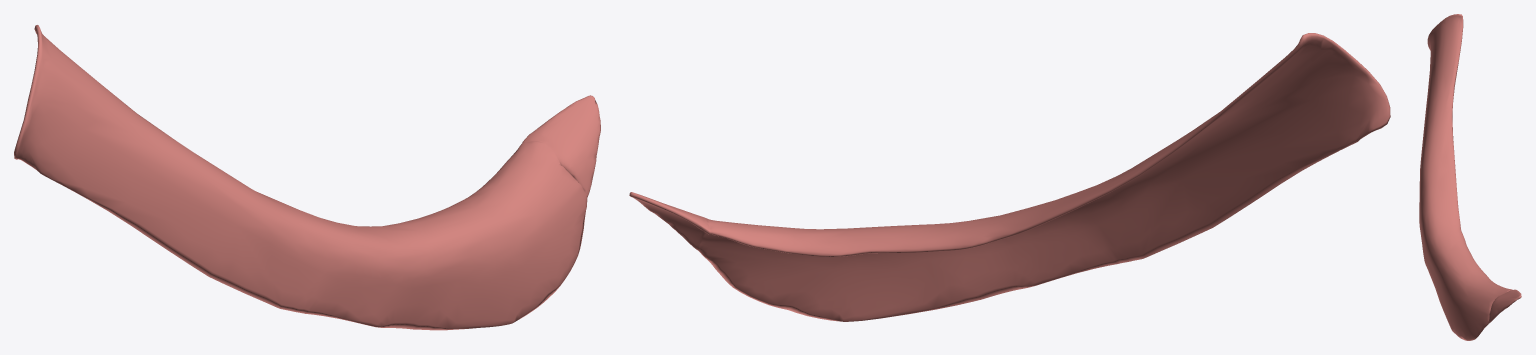
3 views of the same model, side by side, from view 1: azimuth 30°, elevation 25°; view 2: azimuth 150°, elevation 25°; view 3: azimuth 270°, elevation 25° (orthographic). The views are drawn at different scales.
Visible parts, largest first — view 1: ZA_d05f79bb830f18fd; view 2: ZA_d05f79bb830f18fd; view 3: ZA_d05f79bb830f18fd.
Part boxes in pixels (bbox=[...]): ZA_d05f79bb830f18fd: bbox=[14, 25, 600, 330]; ZA_d05f79bb830f18fd: bbox=[629, 33, 1390, 321]; ZA_d05f79bb830f18fd: bbox=[1419, 14, 1521, 340].
Size of the model in its own units: 0.0806 by 0.0467 by 0.0213.
